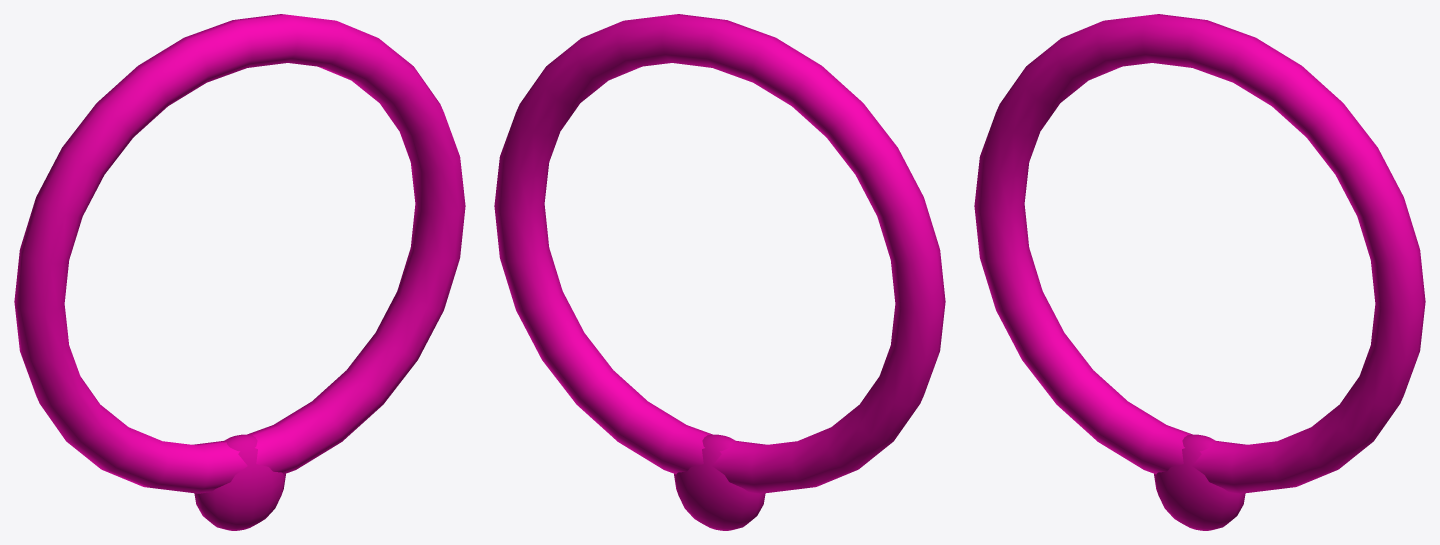
The model's file is VM-CAB-SH40543900.glb.
The picture shows the model from 3 angles, left to right: view 1: azimuth 30°, elevation 25°; view 2: azimuth 150°, elevation 25°; view 3: azimuth 330°, elevation 25°; orthographic projection.
Parts seen in each view (by area): view 1: Pulsera de Cuero Cadena Bicicleta; view 2: Pulsera de Cuero Cadena Bicicleta; view 3: Pulsera de Cuero Cadena Bicicleta.
Boxes of the visible parts, box(x1,y1,x2,y2) form: Pulsera de Cuero Cadena Bicicleta: box(14, 14, 465, 530); Pulsera de Cuero Cadena Bicicleta: box(494, 14, 945, 530); Pulsera de Cuero Cadena Bicicleta: box(974, 14, 1425, 530).
Bounding box in the file's own units: 0.1253 × 0.1366 × 0.0148.
